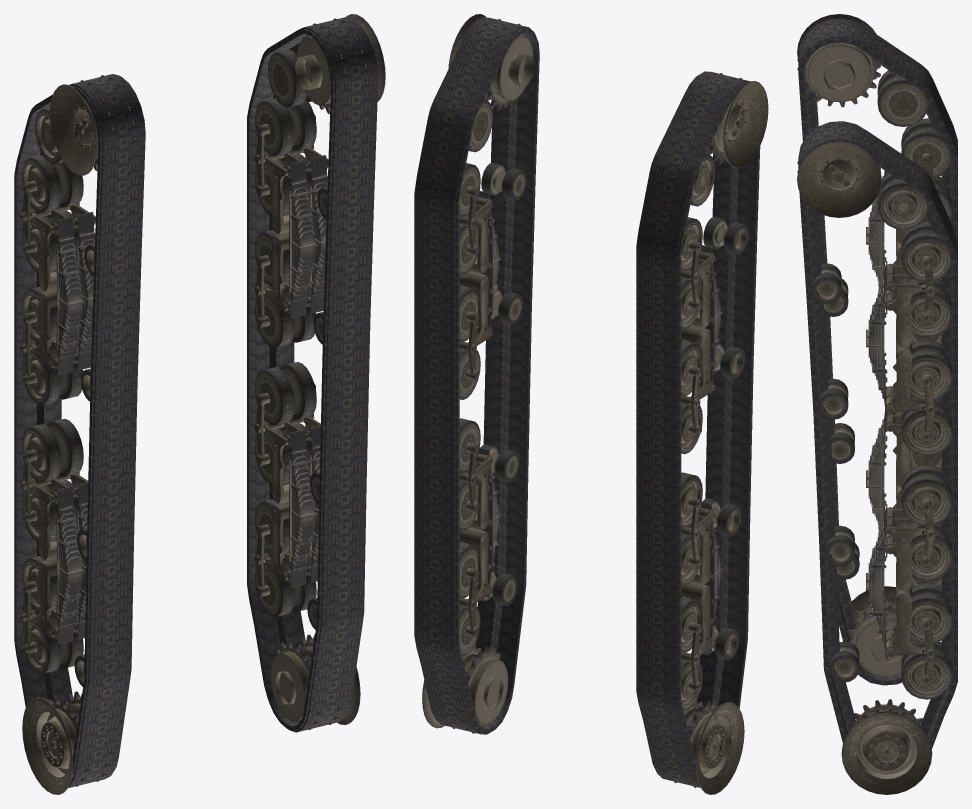
The model's file is Chassis.glb.
3 views of the same model, side by side, from view 1: azimuth 30°, elevation 25°; view 2: azimuth 150°, elevation 25°; view 3: azimuth 270°, elevation 25° (orthographic). The views are drawn at different scales.
Parts seen in each view (by area): view 1: set_3_group_0, set_2_group_0, set_1_group_0, set_0_group_0; view 2: set_3_group_0, set_2_group_0, set_1_group_0, set_0_group_0; view 3: set_0_group_0, set_1_group_0, set_3_group_0, set_2_group_0.
Boxes of the visible parts, <box> form: set_3_group_0: <box>247,17,378,732</box>; set_2_group_0: <box>14,74,145,787</box>; set_1_group_0: <box>20,75,135,794</box>; set_0_group_0: <box>254,14,385,729</box>; set_3_group_0: <box>414,17,539,734</box>; set_2_group_0: <box>636,71,760,787</box>; set_1_group_0: <box>664,72,768,794</box>; set_0_group_0: <box>422,14,534,733</box>; set_0_group_0: <box>797,124,952,794</box>; set_1_group_0: <box>797,14,952,676</box>; set_3_group_0: <box>798,121,957,749</box>; set_2_group_0: <box>798,18,957,685</box>.
Size of the model in its own units: 2.07 by 4.91 by 1.09.
Materials: 4 (4 with a texture image).
